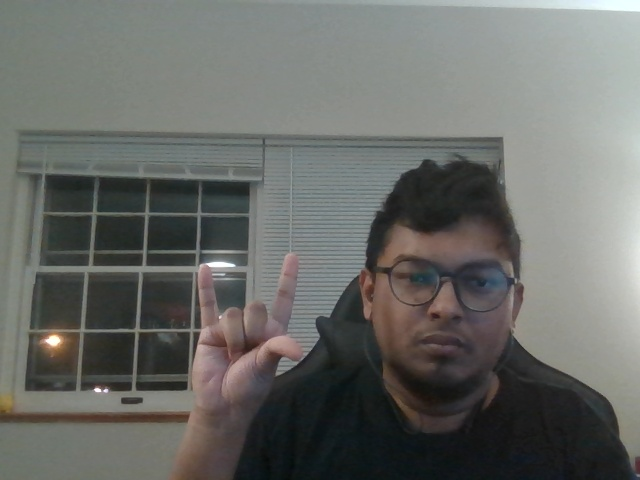ilikeyou: (166, 241, 318, 419)
